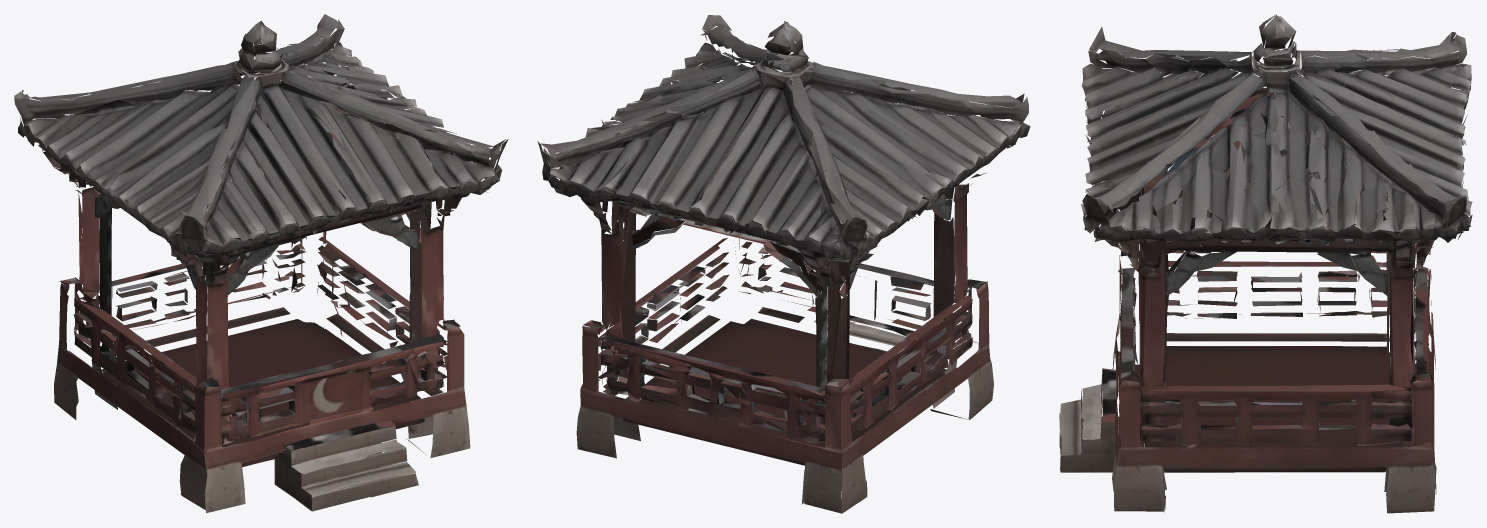
Rendered from moonPavilion.glb.
3 renders of one model, left to right at view 1: azimuth 30°, elevation 25°; view 2: azimuth 150°, elevation 25°; view 3: azimuth 270°, elevation 25°, orthographic. The views are drawn at different scales.
Parts seen in each view (by area): view 1: Prop_moonPavilion; view 2: Prop_moonPavilion; view 3: Prop_moonPavilion.
Boxes of the visible parts, bbox=[...] form: Prop_moonPavilion: bbox=[14, 14, 508, 513]; Prop_moonPavilion: bbox=[537, 15, 1030, 513]; Prop_moonPavilion: bbox=[1059, 14, 1472, 513].
Bounding box in the file's own units: 4.24 × 5 × 4.34.
Materials: 1 (1 with a texture image).
